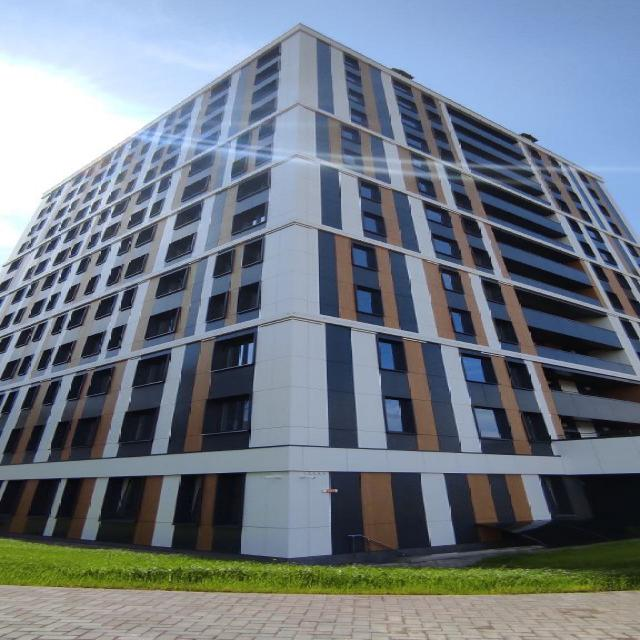Building: (0, 22, 640, 565)
